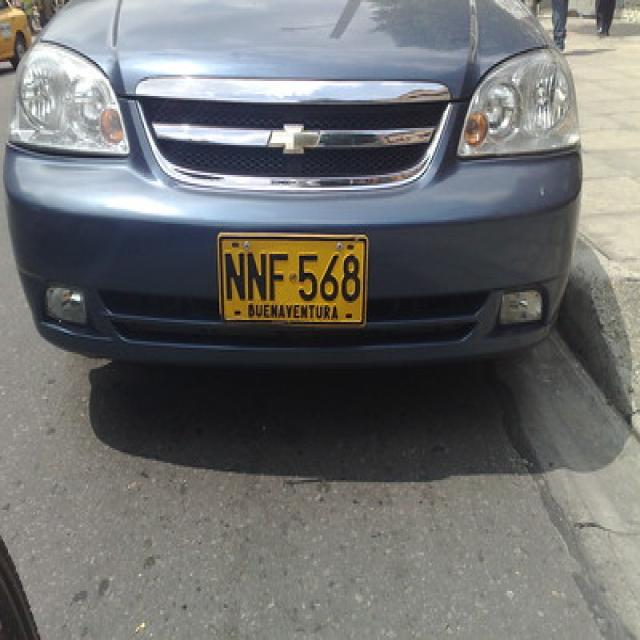placa_carro: (204, 224, 396, 356)
